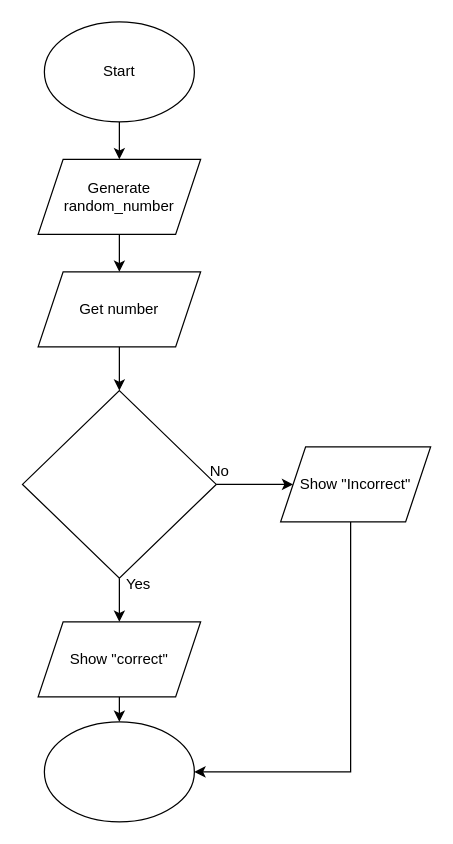
Image size: 453x844. Some labels were removed from this diagram. The centre of each missing label's shape, as x and y in pixels:
"if guessing_number == random_number" goes at [118,483].
"Stop" goes at [118,771].
